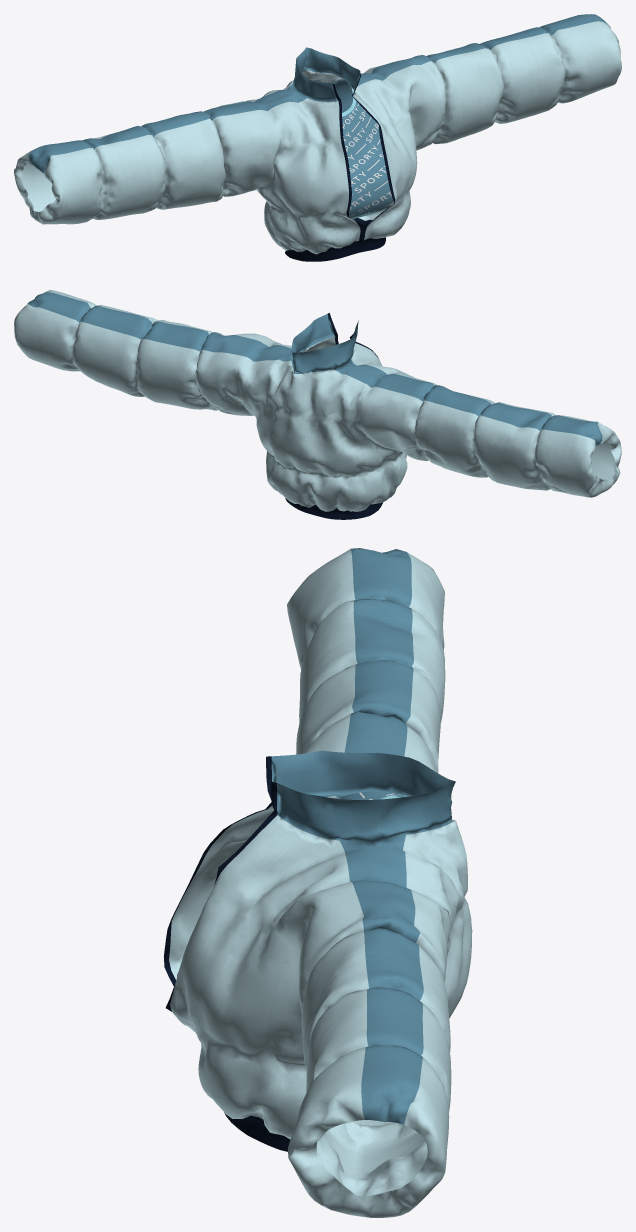
3 renders of one model, top to bottom at view 1: azimuth 30°, elevation 25°; view 2: azimuth 150°, elevation 25°; view 3: azimuth 270°, elevation 25°, orthographic. The views are drawn at different scales.
Parts seen in each view (by area): view 1: BodyTop; view 2: BodyTop; view 3: BodyTop.
Part boxes in pixels (left/top/right/bottom): BodyTop: left=14, top=14, right=621, bottom=261; BodyTop: left=14, top=290, right=621, bottom=519; BodyTop: left=164, top=548, right=472, bottom=1217.
Size of the model in its own units: 1.14 by 0.3347 by 0.2621.
Materials: 45 (45 with a texture image).
